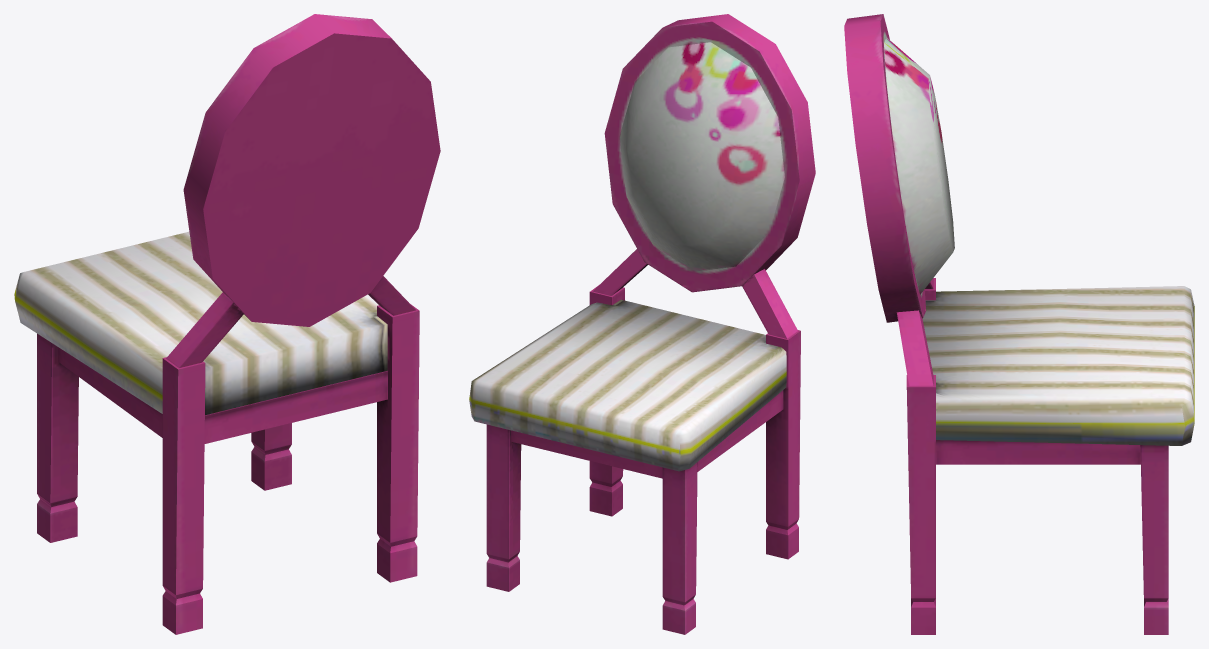
Rendered from furni_0200508_01.FBX.
3 views of the same model, side by side, from view 1: azimuth 30°, elevation 25°; view 2: azimuth 150°, elevation 25°; view 3: azimuth 270°, elevation 25° (orthographic). The views are drawn at different scales.
Parts seen in each view (by area): view 1: furni_0200508_01; view 2: furni_0200508_01; view 3: furni_0200508_01.
Boxes of the visible parts, bbox=[...] form: furni_0200508_01: bbox=[14, 14, 440, 634]; furni_0200508_01: bbox=[469, 14, 815, 634]; furni_0200508_01: bbox=[844, 14, 1194, 634].
Bounding box in the file's own units: 49.44 × 106 × 60.22.
Materials: 1 (1 with a texture image).
